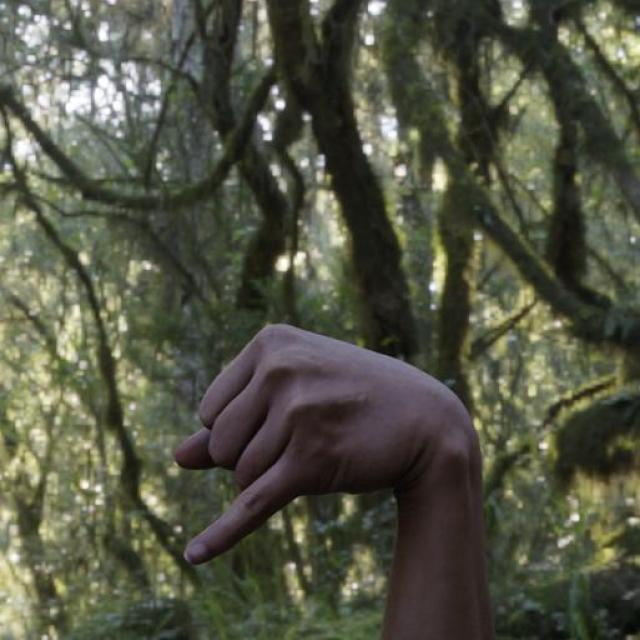J: (142, 302, 476, 610)
